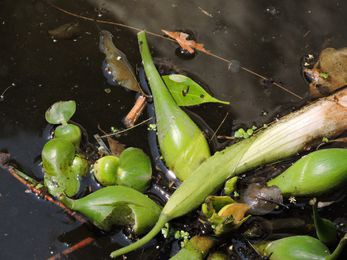water_hyacinth: (27, 19, 232, 260)
